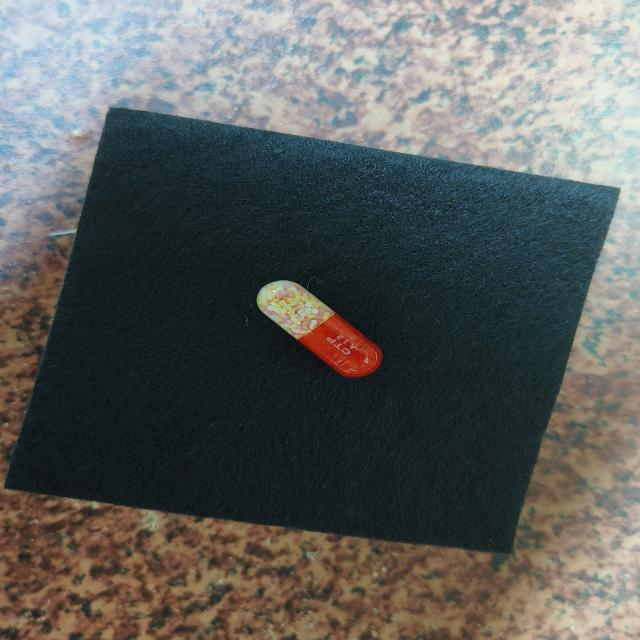Intact Capsule: (257, 280, 382, 378)
